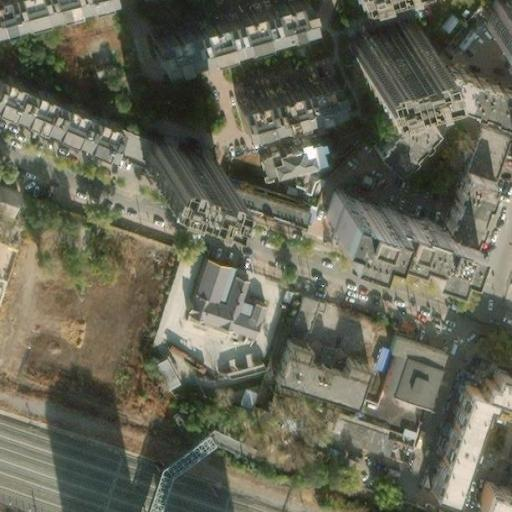building: (150, 0, 310, 63), (180, 256, 260, 336), (262, 328, 356, 396), (368, 201, 456, 271), (429, 385, 485, 493), (234, 76, 338, 132), (221, 170, 319, 224), (417, 56, 497, 112), (346, 13, 427, 66), (430, 158, 485, 229), (372, 353, 439, 411), (155, 139, 231, 190), (255, 129, 332, 177), (313, 199, 378, 254), (383, 332, 445, 370), (432, 98, 477, 148), (117, 125, 164, 167), (322, 413, 376, 448), (287, 292, 321, 337), (150, 351, 183, 392), (474, 482, 512, 512), (480, 366, 512, 399)
